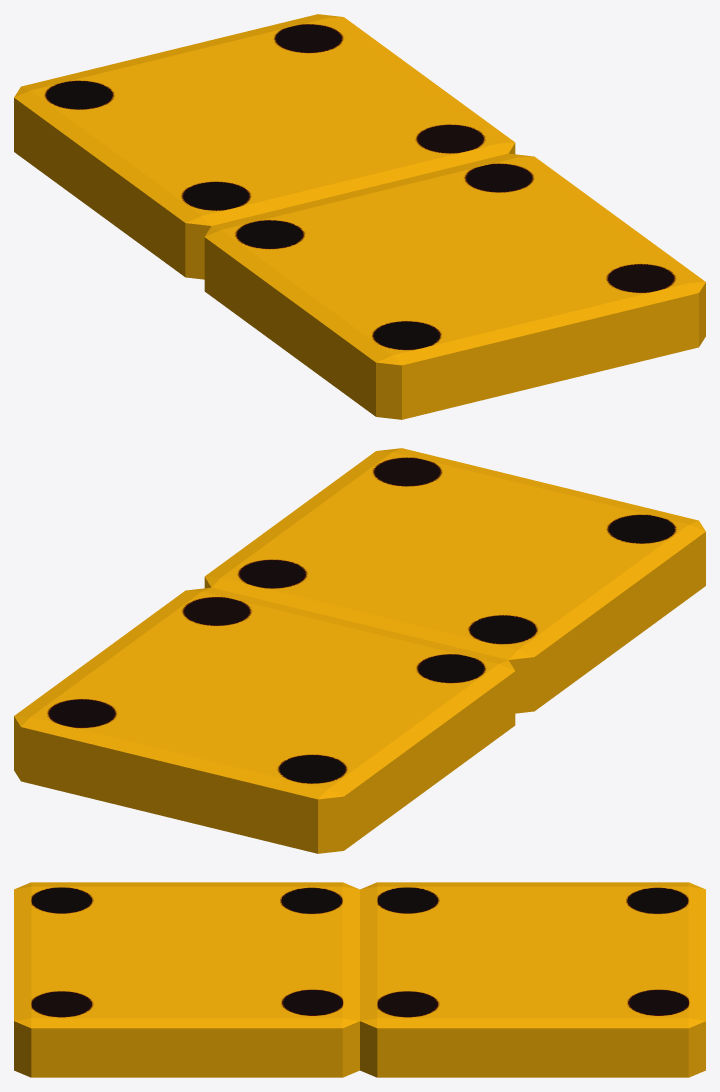
The model's file is domino_4.glb.
The picture shows the model from 3 angles, top to bottom: view 1: azimuth 30°, elevation 25°; view 2: azimuth 150°, elevation 25°; view 3: azimuth 270°, elevation 25°; orthographic projection. The views are drawn at different scales.
Parts seen in each view (by area): view 1: Dom.202_low_2; view 2: Dom.202_low_2; view 3: Dom.202_low_2.
Part boxes in pixels (x1,y1,x2,y2): Dom.202_low_2: (14, 14, 705, 419); Dom.202_low_2: (14, 448, 705, 853); Dom.202_low_2: (14, 882, 705, 1077).
Bounding box in the file's own units: 2 × 0.35 × 4.
Materials: 1 (1 with a texture image).
